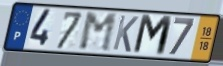4: (28, 7, 52, 51)
7: (167, 16, 198, 58), (55, 11, 85, 51)
K: (111, 14, 140, 54)
M: (130, 13, 175, 58), (78, 12, 119, 54)
